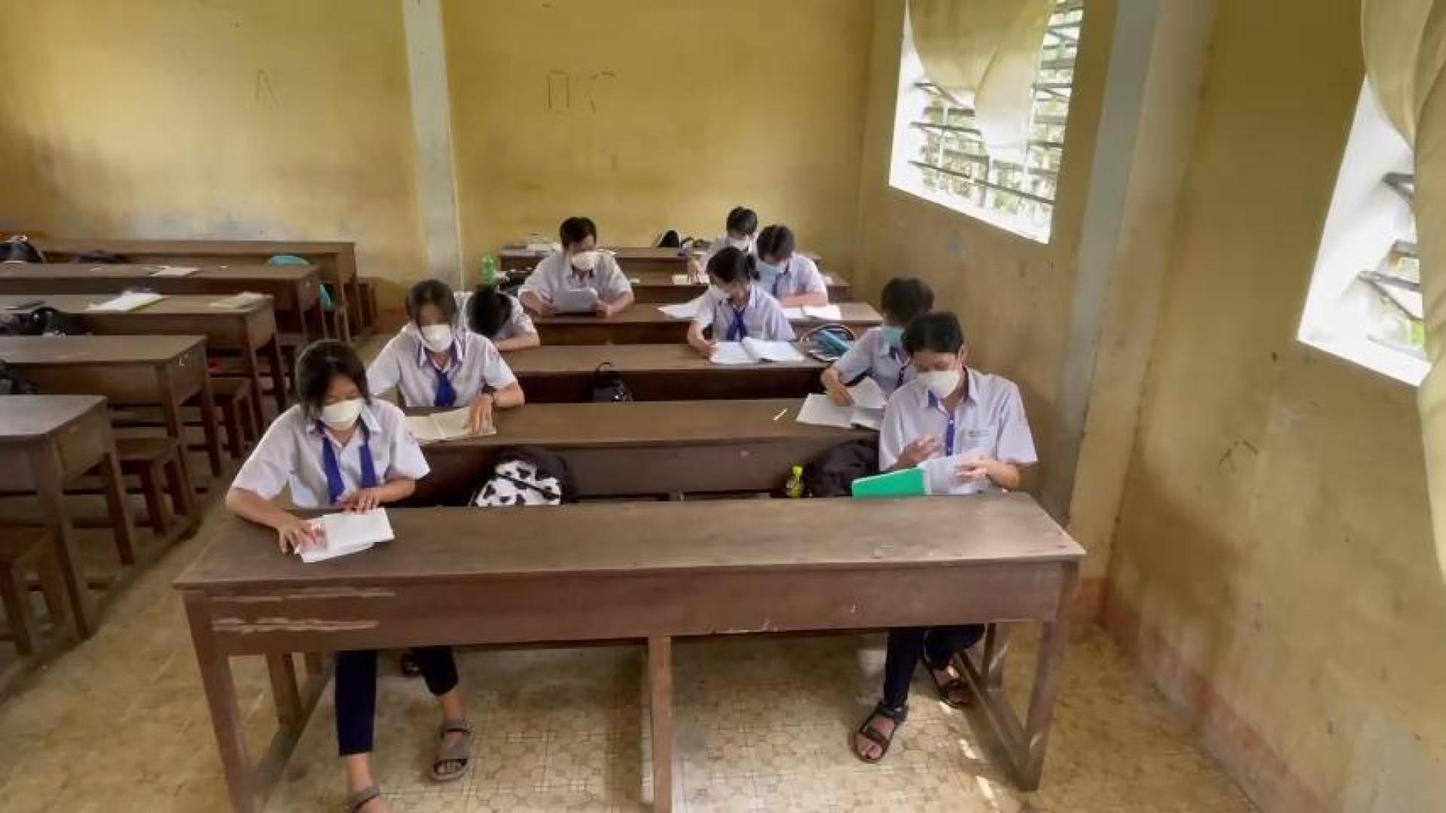Hand Under Table: (755, 297, 796, 352)
Look Around: (698, 239, 757, 308)
